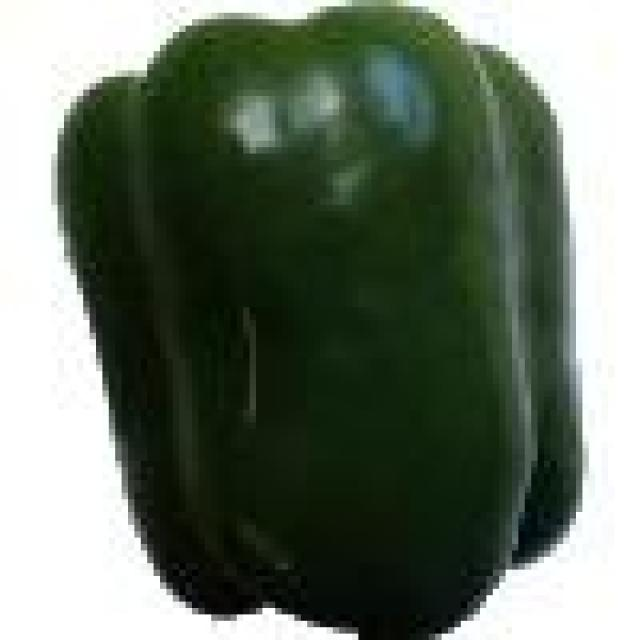Bell Pepper: (58, 6, 576, 634)
